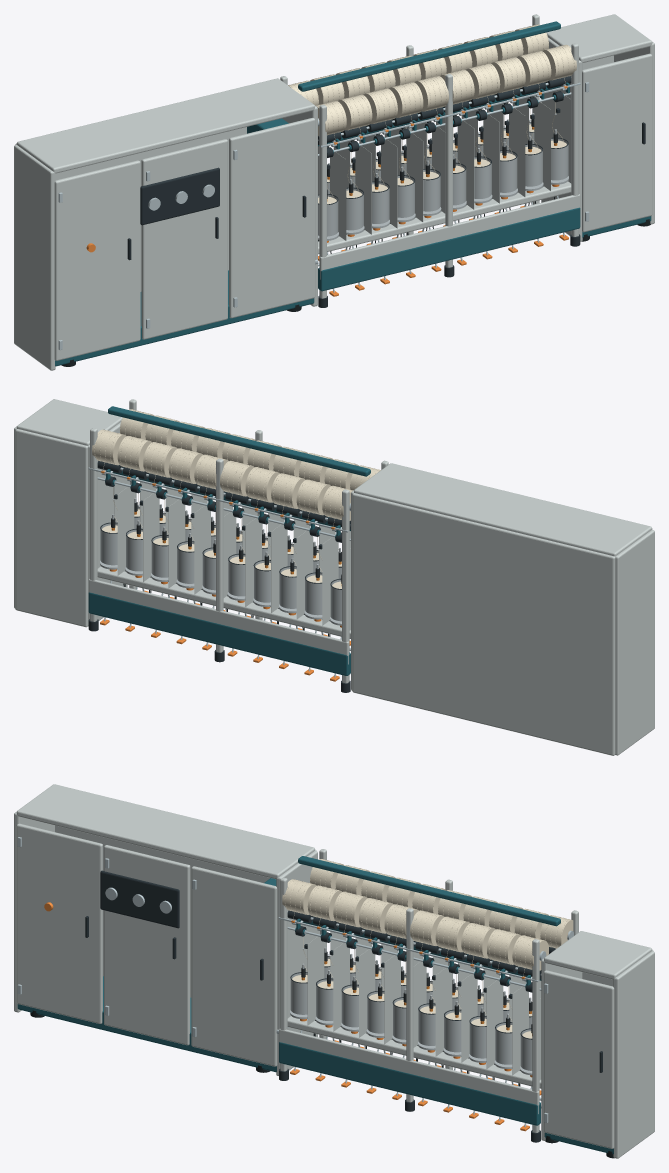
The model's file is twisting.glb.
The picture shows the model from 3 angles, top to bottom: view 1: azimuth 30°, elevation 25°; view 2: azimuth 150°, elevation 25°; view 3: azimuth 330°, elevation 25°; orthographic projection.
Parts seen in each view (by area): view 1: CompactTwister_mechanical_head_door.002, CompactTwister_mechanical_head_door, CompactTwister_mechanical_head_door.001, CompactTwister_endstock_door, CompactTwister_mechanical_head_roof, CompactTwister_mechanical_head_end, CT_base_longitudinal, CT_lower_transmission_cover, CompactTwister_endstock_roof, CT_mechanical_setting_panel, CT_spindle_support_rail, CT_central_crosshead.003 (+37 smaller); view 2: CompactTwister_mechanical_head_rear, CompactTwister_endstock_rear, CompactTwister_mechanical_head_roof, CompactTwister_mechanical_head_end, CT_base_longitudinal.001, CT_lower_transmission_cover.001, CompactTwister_endstock_roof, CT_spindle_support_rail.001, CT_central_crosshead.003, CompactTwister_endstock_end, CT_station_frame_upright.003, CT_station_frame_upright.004 (+29 smaller); view 3: CompactTwister_mechanical_head_door.002, CompactTwister_mechanical_head_door, CompactTwister_mechanical_head_door.001, CompactTwister_endstock_door, CompactTwister_mechanical_head_roof, CompactTwister_endstock_end.001, CT_base_longitudinal, CT_lower_transmission_cover, CompactTwister_endstock_roof, CT_mechanical_setting_panel, CT_spindle_support_rail, CT_central_crosshead.003 (+37 smaller).
Part boxes in pixels (bbox=[...]): CompactTwister_mechanical_head_door.002: bbox=[229, 118, 315, 318]; CompactTwister_mechanical_head_door: bbox=[54, 160, 140, 360]; CompactTwister_mechanical_head_door.001: bbox=[141, 139, 227, 339]; CompactTwister_endstock_door: bbox=[582, 53, 652, 232]; CompactTwister_mechanical_head_roof: bbox=[16, 78, 314, 173]; CompactTwister_mechanical_head_end: bbox=[14, 145, 55, 370]; CT_base_longitudinal: bbox=[318, 207, 580, 291]; CT_lower_transmission_cover: bbox=[319, 194, 580, 279]; CompactTwister_endstock_roof: bbox=[546, 14, 652, 62]; CT_mechanical_setting_panel: bbox=[140, 167, 219, 225]; CT_spindle_support_rail: bbox=[318, 181, 571, 254]; CT_central_crosshead.003: bbox=[298, 21, 560, 91]; CompactTwister_mechanical_head_rear: bbox=[352, 493, 615, 755]; CompactTwister_endstock_rear: bbox=[15, 429, 88, 627]; CompactTwister_mechanical_head_roof: bbox=[354, 463, 652, 556]; CompactTwister_mechanical_head_end: bbox=[615, 529, 654, 755]; CT_base_longitudinal.001: bbox=[88, 592, 350, 675]; CT_lower_transmission_cover.001: bbox=[88, 579, 349, 664]; CompactTwister_endstock_roof: bbox=[16, 399, 122, 445]; CT_spindle_support_rail.001: bbox=[97, 566, 350, 638]; CT_central_crosshead.003: bbox=[108, 406, 370, 476]; CompactTwister_endstock_end: bbox=[88, 422, 127, 626]; CT_station_frame_upright.003: bbox=[342, 489, 349, 683]; CT_station_frame_upright.004: bbox=[216, 458, 223, 652]; CompactTwister_mechanical_head_door.002: bbox=[191, 866, 277, 1066]; CompactTwister_mechanical_head_door: bbox=[16, 823, 102, 1023]; CompactTwister_mechanical_head_door.001: bbox=[104, 845, 190, 1045]; CompactTwister_endstock_door: bbox=[544, 970, 614, 1148]; CompactTwister_mechanical_head_roof: bbox=[16, 784, 314, 879]; CompactTwister_endstock_end.001: bbox=[613, 951, 654, 1158]; CT_base_longitudinal: bbox=[279, 1042, 540, 1125]; CT_lower_transmission_cover: bbox=[279, 1028, 539, 1113]; CompactTwister_endstock_roof: bbox=[544, 931, 652, 979]; CT_mechanical_setting_panel: bbox=[100, 870, 179, 928]; CT_spindle_support_rail: bbox=[287, 1016, 541, 1088]; CT_central_crosshead.003: bbox=[298, 856, 560, 926].
Size of the model in its own units: 4.9 by 1.6 by 0.62.
